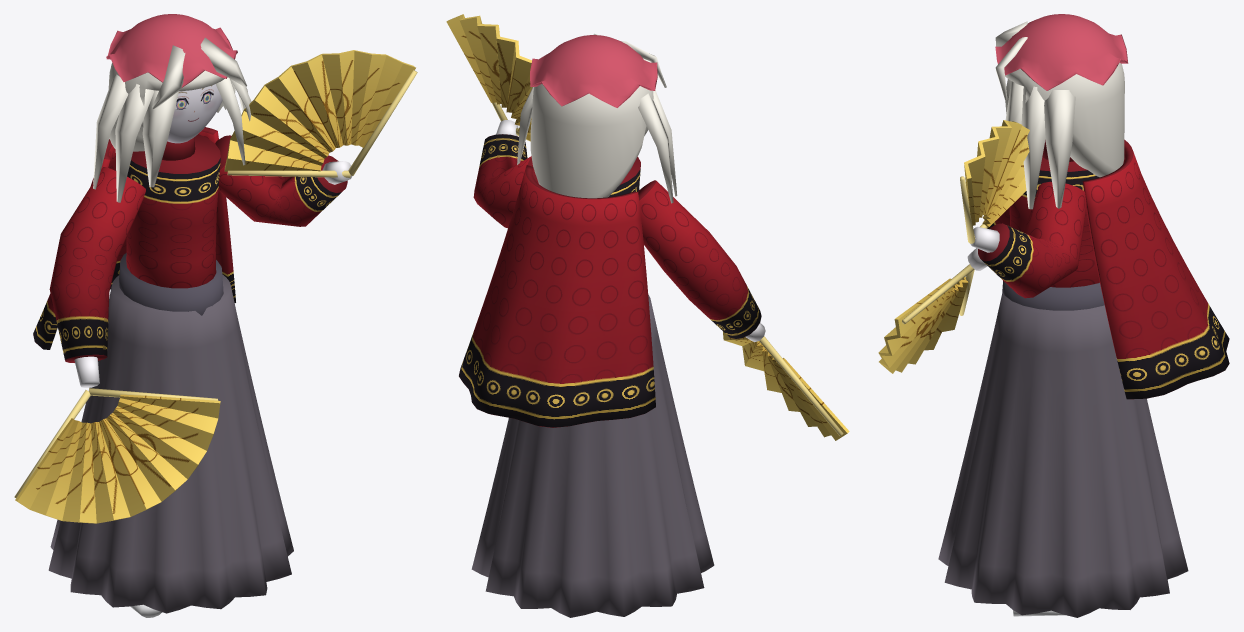
Rendered from douma_3d.glb.
3 renders of one model, left to right at view 1: azimuth 30°, elevation 25°; view 2: azimuth 150°, elevation 25°; view 3: azimuth 270°, elevation 25°, orthographic. The views are drawn at different scales.
Visible parts, largest first — view 1: Hakama, FanLeft_leaf, FanRight_leaf, Torso, ArmL, BloodCrown, ArmR, Obi, RobeCape, Head, DoumaWave_-1_1, DoumaWave_-1_0 (+11 smaller); view 2: Hakama, RobeCape, HairCrown, ArmL, BloodCrown, FanRight_leaf, ArmR, FanLeft_leaf, DoumaWave_-1_2, FanLeft_rib_-1, DoumaWave_1_2, Torso (+1 smaller); view 3: Hakama, RobeCape, ArmR, BloodCrown, HairCrown, FanRight_leaf, FanLeft_leaf, Torso, DoumaWave_1_2, DoumaWave_1_1, Obi, FanLeft (+3 smaller).
Part boxes in pixels (x1,y1,x2,y2): Hakama: [48, 274, 293, 613]; FanLeft_leaf: [15, 394, 220, 523]; FanRight_leaf: [224, 50, 415, 171]; Torso: [126, 134, 220, 288]; ArmL: [49, 167, 145, 362]; BloodCrown: [106, 14, 237, 87]; ArmR: [215, 135, 347, 226]; Obi: [119, 253, 223, 315]; RobeCape: [33, 127, 235, 349]; Head: [167, 84, 222, 143]; DoumaWave_-1_1: [115, 84, 153, 202]; DoumaWave_-1_0: [142, 90, 178, 187]; Hakama: [471, 295, 714, 617]; RobeCape: [459, 165, 655, 427]; HairCrown: [530, 84, 653, 198]; ArmL: [638, 180, 761, 338]; BloodCrown: [530, 35, 657, 107]; FanRight_leaf: [446, 14, 532, 140]; ArmR: [473, 134, 538, 228]; FanLeft_leaf: [723, 331, 849, 440]; DoumaWave_-1_2: [638, 93, 673, 203]; FanLeft_rib_-1: [759, 336, 843, 436]; DoumaWave_1_2: [517, 87, 533, 164]; Torso: [608, 156, 640, 197]; Hakama: [938, 293, 1188, 617]; RobeCape: [1082, 139, 1229, 399]; ArmR: [978, 181, 1086, 298]; BloodCrown: [995, 14, 1128, 90]; HairCrown: [1005, 62, 1124, 177]; FanRight_leaf: [964, 120, 1029, 227]; FanLeft_leaf: [878, 277, 968, 373]; Torso: [1009, 157, 1099, 287]; DoumaWave_1_2: [1044, 90, 1075, 208]; DoumaWave_1_1: [1021, 86, 1045, 209]; Obi: [1002, 281, 1104, 310]; FanLeft: [902, 264, 974, 324].
Size of the model in its own units: 1.49 by 2 by 1.11.
Materials: 10 (3 with a texture image).
